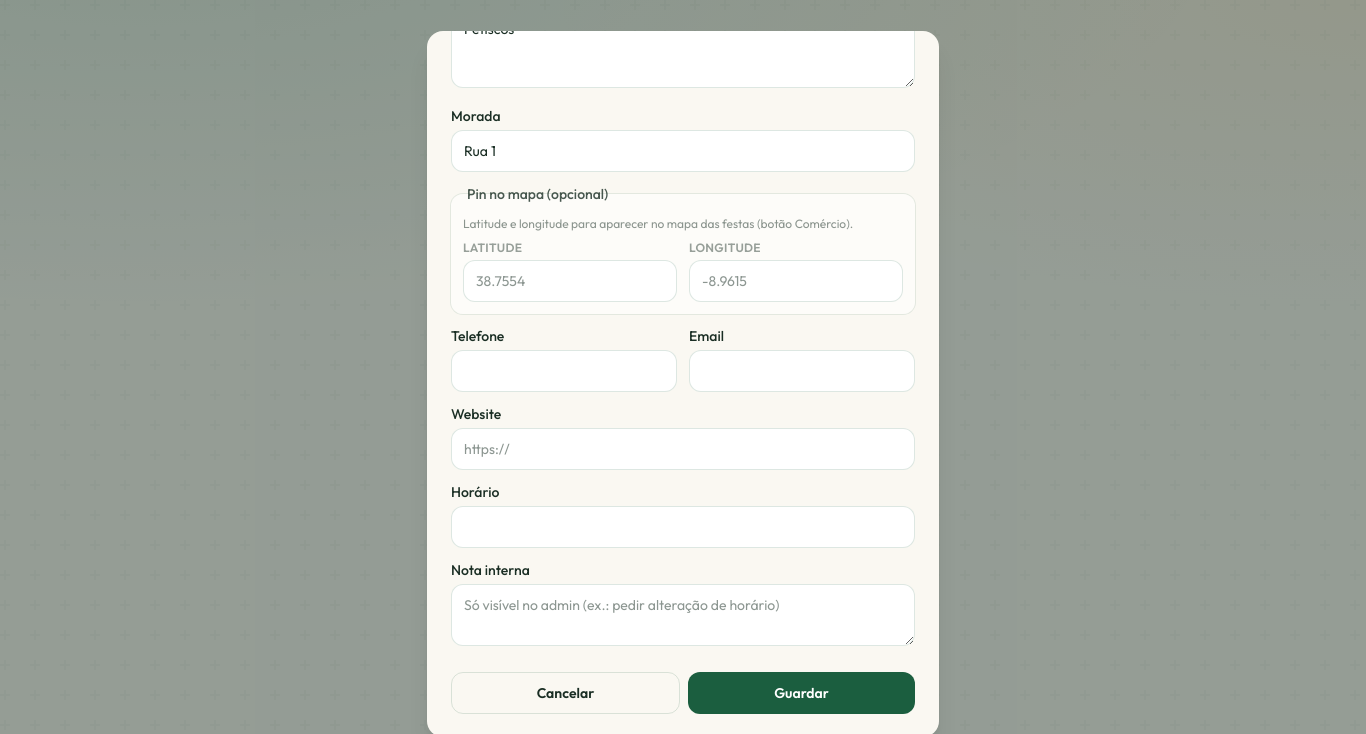
Test: BusinessForm › rejects invalid website URL
The image size is (1366, 734).
(page scrolled)
Type "javascript:alert(1)" into the field labelled "Website".
click(683, 449); type("javascript:alert(1)")  # box [451,428,915,470]
(page scrolled)
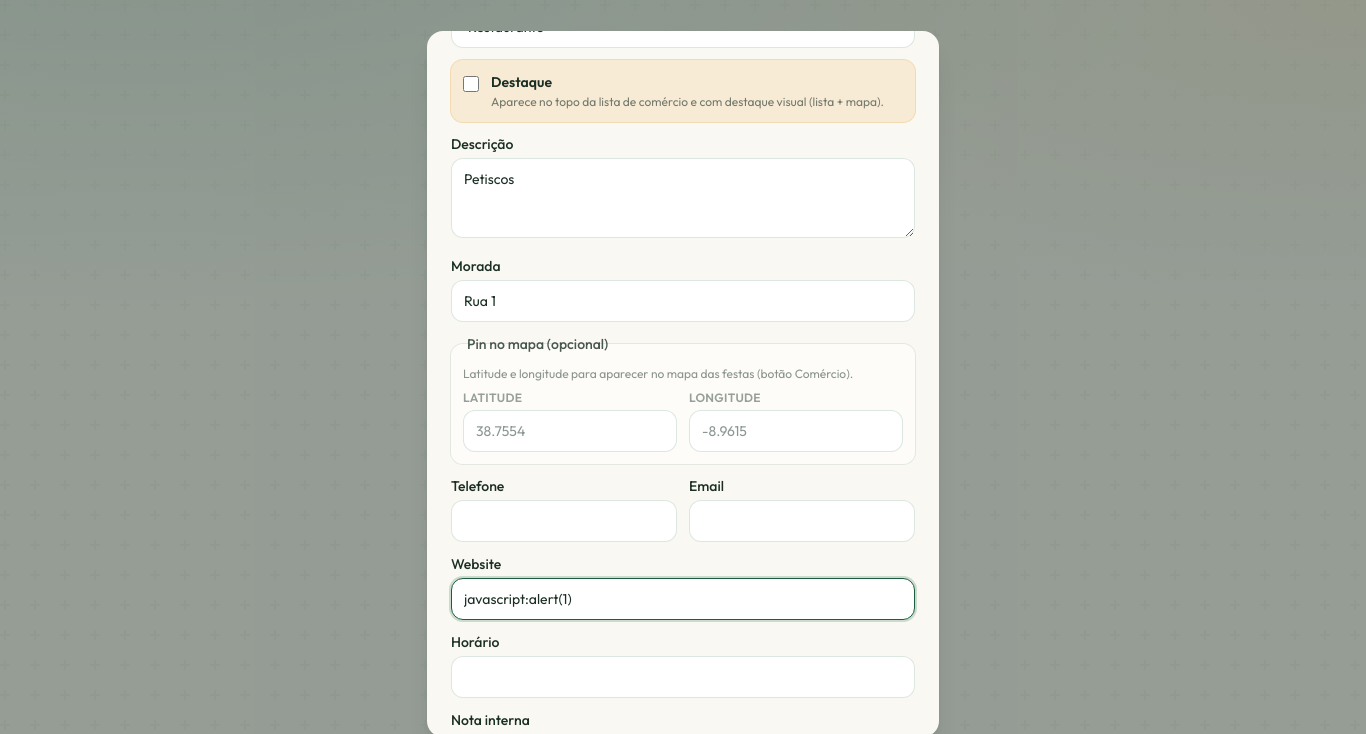
Submit the form named "guardar"
(page scrolled)
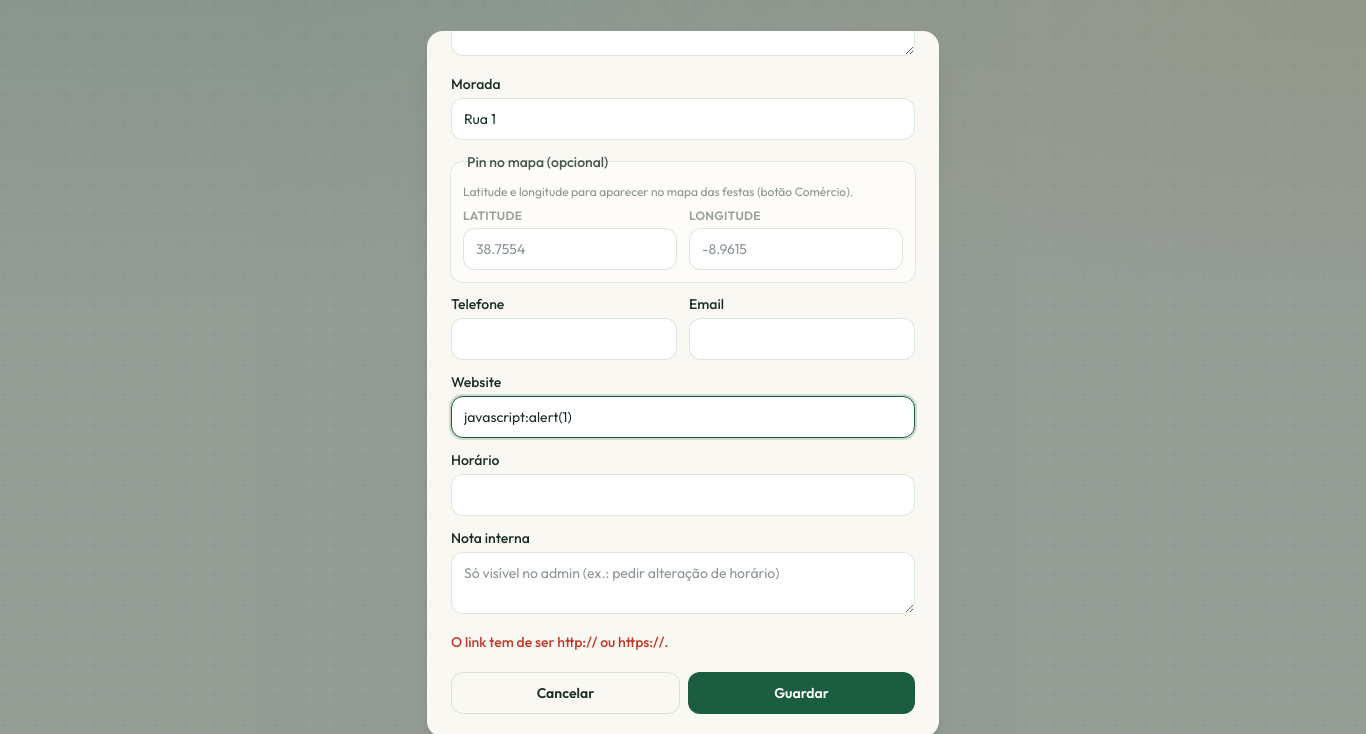
Expected: the message "O link tem de ser http:// ou https://." is shown, [451,633,668,651]
